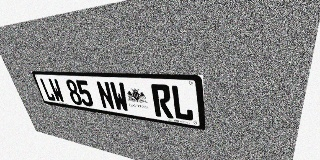5: (75, 80, 95, 107)
8: (64, 79, 83, 105)
L: (170, 85, 194, 122), (39, 78, 56, 102)
N: (95, 81, 116, 110)
R: (151, 84, 173, 119)
W: (109, 82, 130, 112), (48, 78, 65, 103)
